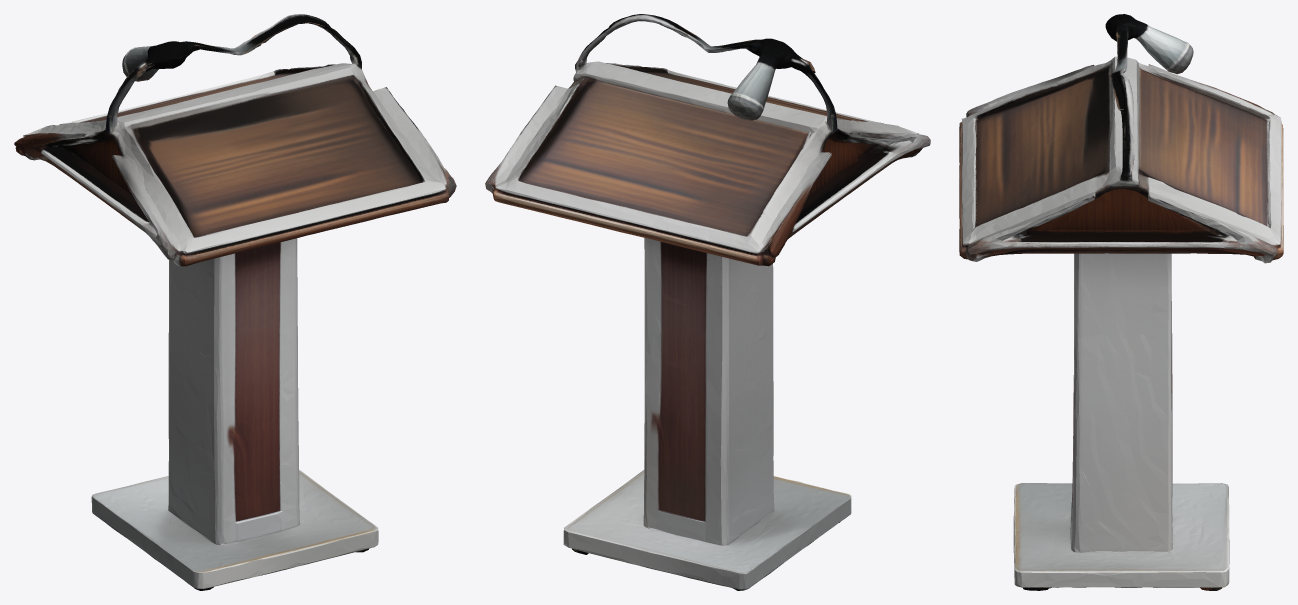
3 renders of one model, left to right at view 1: azimuth 30°, elevation 25°; view 2: azimuth 150°, elevation 25°; view 3: azimuth 270°, elevation 25°, orthographic.
Visible parts, largest first — view 1: world; view 2: world; view 3: world.
Part boxes in pixels (box(x1,y1,x2,y2)): world: box(14, 14, 456, 590); world: box(485, 14, 930, 590); world: box(959, 14, 1283, 590).
Bounding box in the file's own units: 0.5993 × 0.9999 × 0.5866.
1 material, 1 textured.
